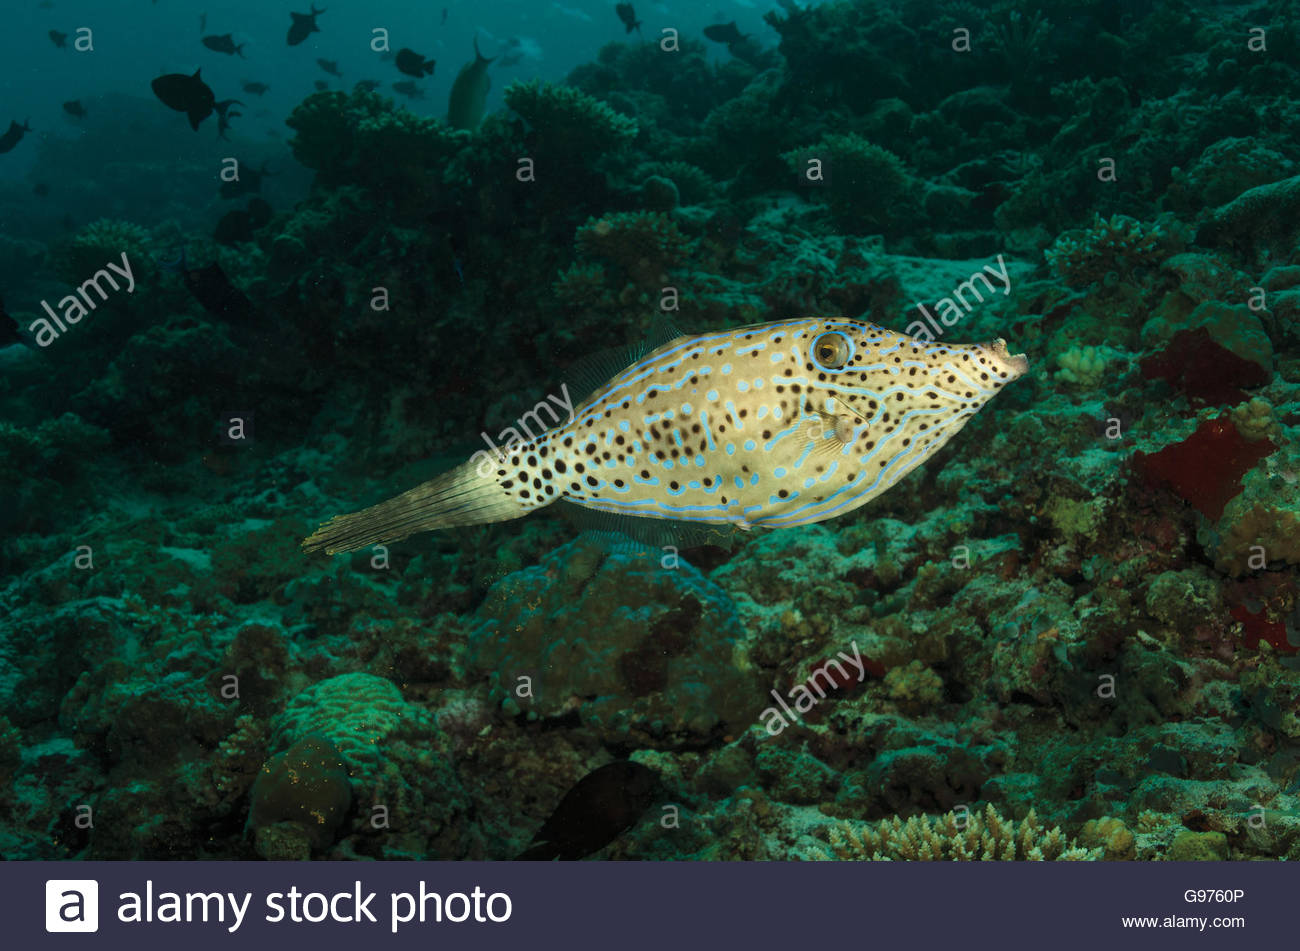Aluterus_scriptus: (300, 310, 1025, 571)
